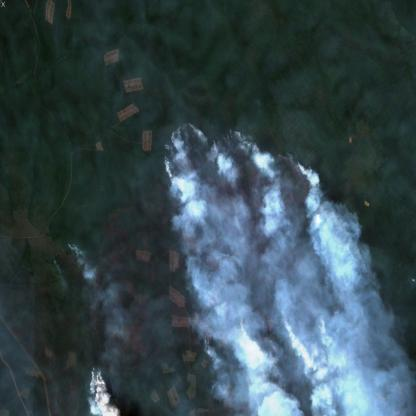fire: (150, 116, 341, 226), (196, 301, 341, 385), (80, 356, 112, 400)
